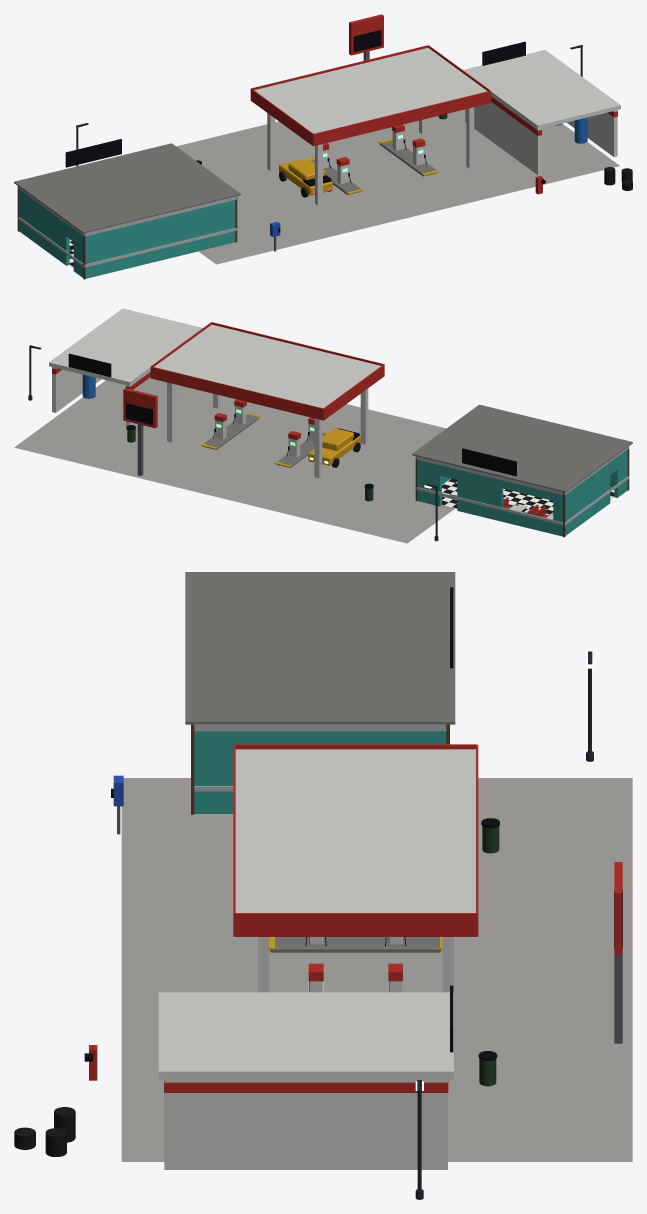
The model's file is tf-gas-p5.glb.
3 renders of one model, top to bottom at view 1: azimuth 30°, elevation 25°; view 2: azimuth 150°, elevation 25°; view 3: azimuth 270°, elevation 25°, orthographic. The views are drawn at different scales.
Visible parts, largest first — view 1: tf-gas-p5; view 2: tf-gas-p5; view 3: tf-gas-p5.
Part boxes in pixels (box(x1,y1,x2,y2)): tf-gas-p5: box(14, 14, 632, 279); tf-gas-p5: box(14, 308, 632, 543); tf-gas-p5: box(14, 572, 632, 1199).
Size of the model in its own units: 44.39 by 6.4 by 21.78.
